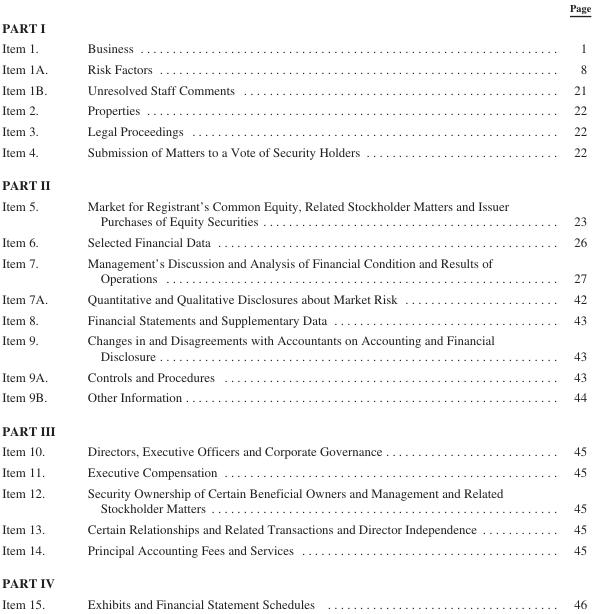table: (1, 1, 590, 610)
table column: (67, 1, 538, 610), (1, 1, 67, 610), (538, 1, 590, 610)
table column header: (1, 1, 590, 16)
table projected row header: (1, 167, 590, 195), (1, 565, 590, 593), (1, 413, 590, 440), (1, 16, 590, 37)
table row: (1, 195, 590, 231), (1, 252, 590, 288), (1, 329, 590, 365), (1, 482, 590, 518), (1, 167, 590, 195), (1, 565, 590, 593), (1, 140, 590, 167), (1, 386, 590, 413), (1, 413, 590, 440), (1, 538, 590, 565), (1, 16, 590, 37), (1, 37, 590, 58), (1, 78, 590, 99), (1, 99, 590, 120), (1, 231, 590, 252), (1, 308, 590, 329), (1, 365, 590, 386), (1, 440, 590, 461), (1, 461, 590, 482), (1, 58, 590, 78), (1, 120, 590, 140), (1, 288, 590, 308), (1, 518, 590, 538), (1, 593, 590, 610), (1, 1, 590, 16)
